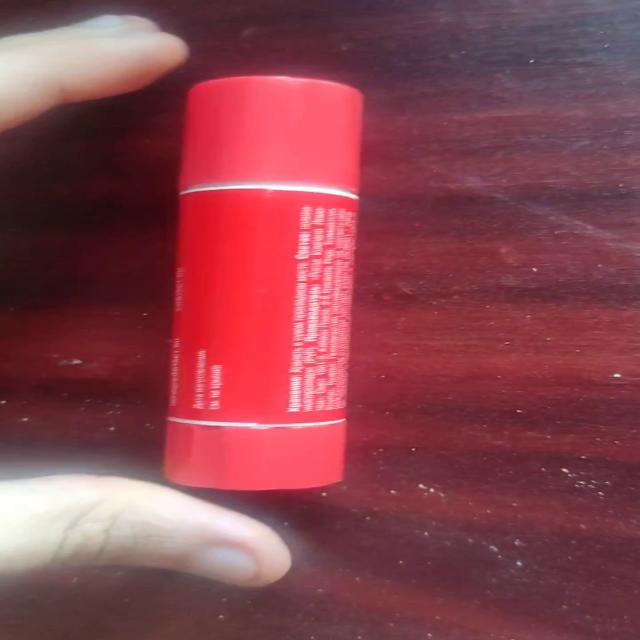glue: (161, 74, 363, 490)
